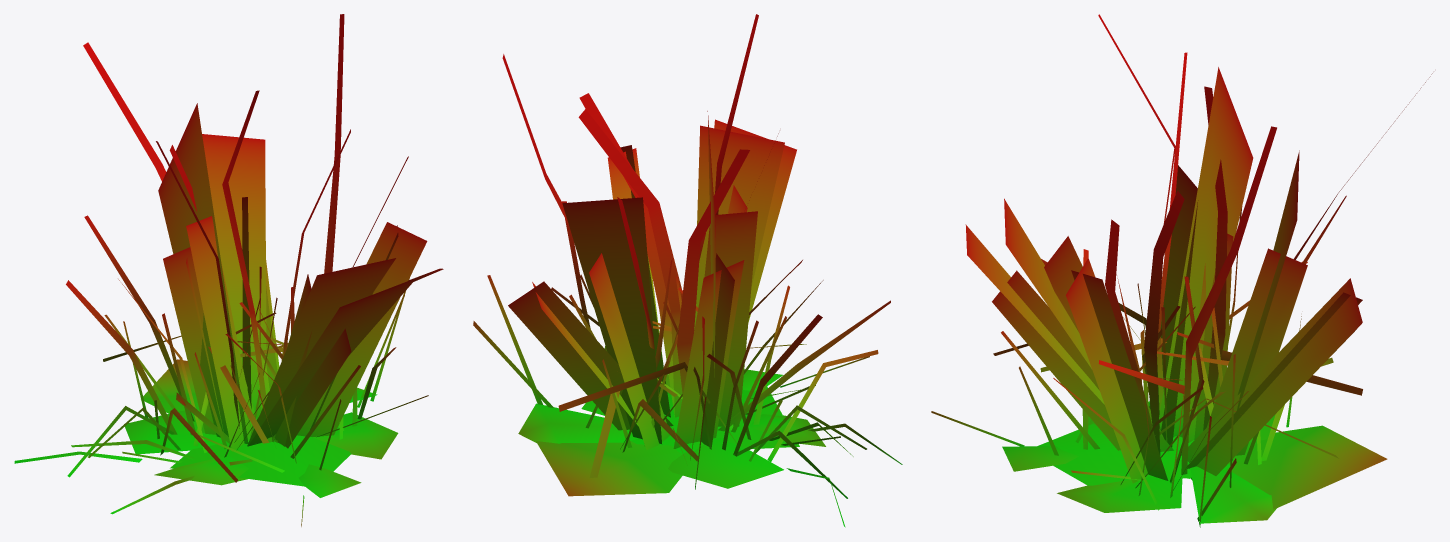
The model's file is Var7_LOD3.fbx.
3 renders of one model, left to right at view 1: azimuth 30°, elevation 25°; view 2: azimuth 150°, elevation 25°; view 3: azimuth 270°, elevation 25°, orthographic. The views are drawn at different scales.
Parts seen in each view (by area): view 1: _8956_Var7_LOD3; view 2: _8956_Var7_LOD3; view 3: _8956_Var7_LOD3.
Boxes of the visible parts, x1,y1,x2,y2 form: _8956_Var7_LOD3: (14, 14, 443, 526); _8956_Var7_LOD3: (473, 14, 902, 527); _8956_Var7_LOD3: (931, 14, 1432, 527).
Bounding box in the file's own units: 23.4 × 23.72 × 24.73.
